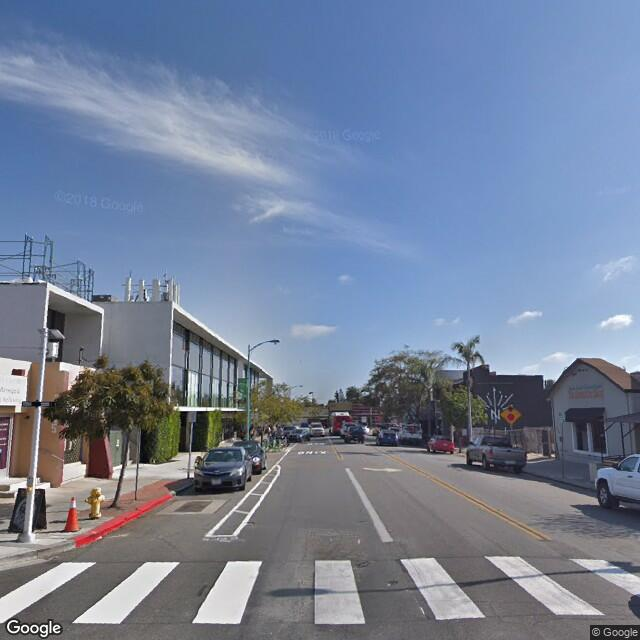road line: (332, 446, 399, 553), (465, 496, 546, 539)
window: (572, 422, 607, 458)
